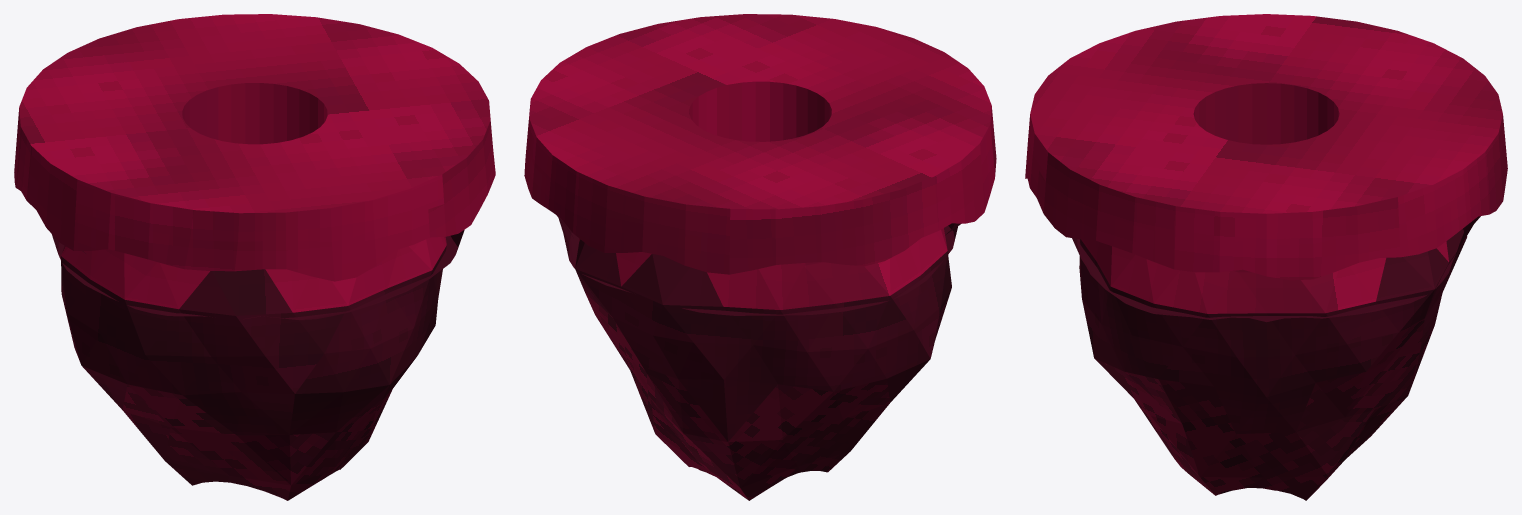
The model's file is MainIsland_firepit.glb.
3 renders of one model, left to right at view 1: azimuth 30°, elevation 25°; view 2: azimuth 150°, elevation 25°; view 3: azimuth 270°, elevation 25°, orthographic. The views are drawn at different scales.
Visible parts, largest first — view 1: MainIsland; view 2: MainIsland; view 3: MainIsland.
Part boxes in pixels (<box>): MainIsland: <box>14,14,495,500</box>; MainIsland: <box>524,14,996,500</box>; MainIsland: <box>1025,14,1507,500</box>.
Bounding box in the file's own units: 20.3 × 17.11 × 20.3.
3 materials, 3 textured.
